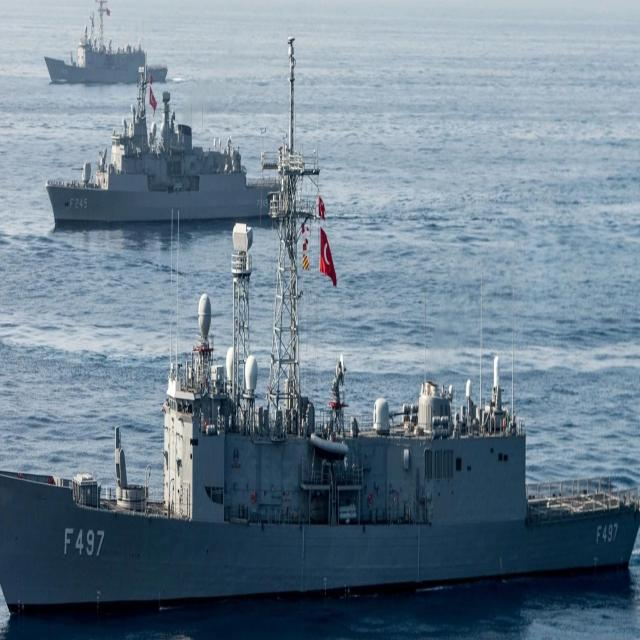navalvessels: (0, 250, 640, 640), (44, 65, 294, 213), (37, 0, 175, 112)
